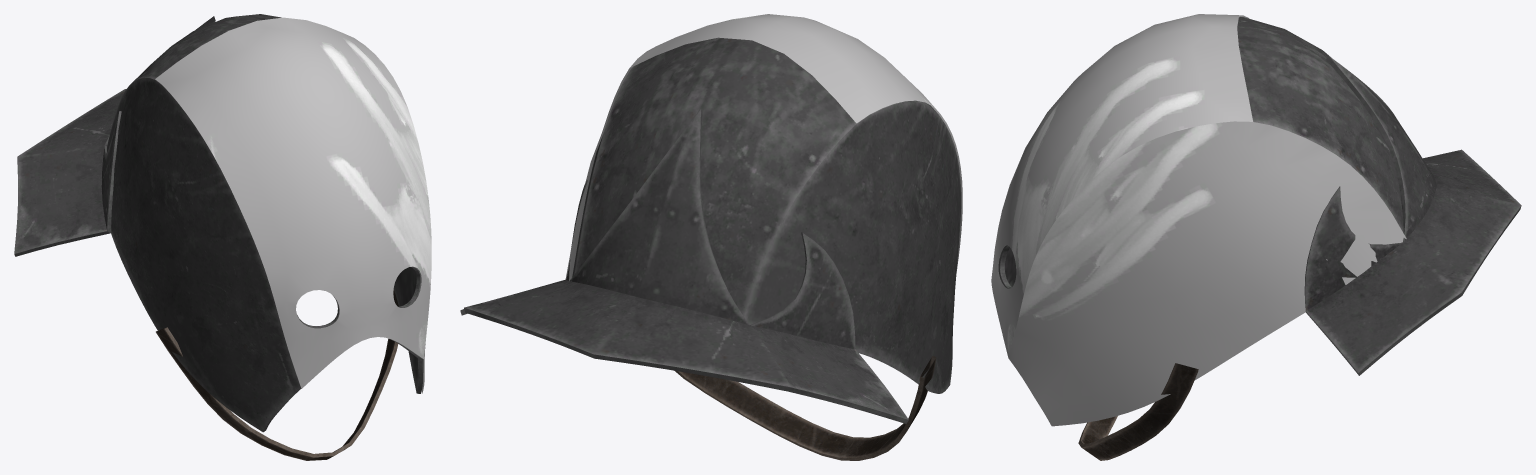
File: sk_uruk_hai_helmet_nazg_a2.fbx
3 renders of one model, left to right at view 1: azimuth 30°, elevation 25°; view 2: azimuth 150°, elevation 25°; view 3: azimuth 270°, elevation 25°, orthographic. The views are drawn at different scales.
Parts seen in each view (by area): view 1: sk_uruk_hai_helmet_nazg_a2.1, sk_uruk_hai_helmet_nazg_a2.0, sk_uruk_hai_helmet_nazg_a2.2; view 2: sk_uruk_hai_helmet_nazg_a2.0, sk_uruk_hai_helmet_nazg_a2.1, sk_uruk_hai_helmet_nazg_a2.2; view 3: sk_uruk_hai_helmet_nazg_a2.1, sk_uruk_hai_helmet_nazg_a2.0, sk_uruk_hai_helmet_nazg_a2.2.
Boxes of the visible parts, x1,y1,x2,y2 form: sk_uruk_hai_helmet_nazg_a2.1: (155, 17, 431, 393); sk_uruk_hai_helmet_nazg_a2.0: (14, 14, 423, 432); sk_uruk_hai_helmet_nazg_a2.2: (156, 289, 398, 460); sk_uruk_hai_helmet_nazg_a2.0: (460, 37, 961, 423); sk_uruk_hai_helmet_nazg_a2.1: (565, 14, 962, 281); sk_uruk_hai_helmet_nazg_a2.2: (674, 356, 936, 460); sk_uruk_hai_helmet_nazg_a2.1: (991, 14, 1406, 426); sk_uruk_hai_helmet_nazg_a2.0: (998, 16, 1521, 375); sk_uruk_hai_helmet_nazg_a2.2: (1078, 363, 1198, 460).
Bounding box in the file's own units: 0.2893 × 0.3298 × 0.2926.
Materials: 3 (3 with a texture image).
